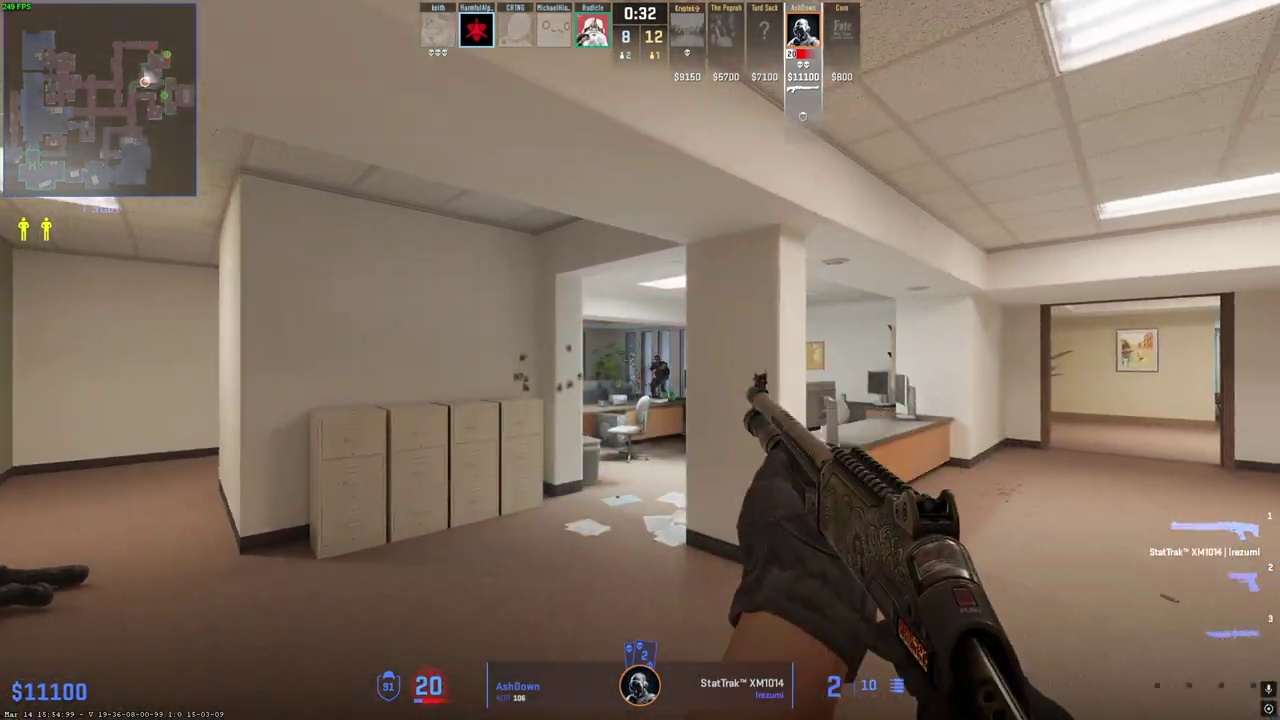CT: (648, 355, 670, 399)
